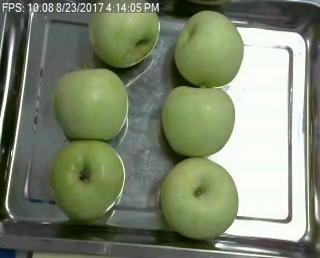fruit: (157, 158, 241, 244), (50, 63, 135, 140), (51, 146, 131, 226), (160, 85, 237, 159), (180, 9, 247, 83), (93, 0, 164, 69)
